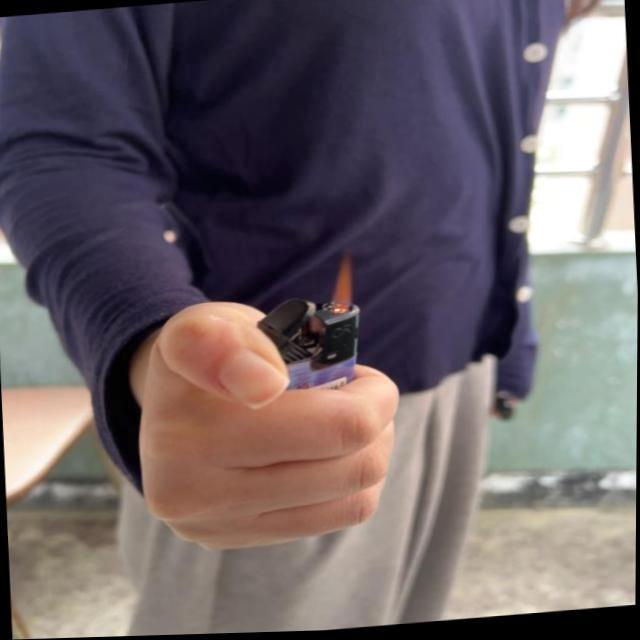fire: (325, 252, 363, 316)
